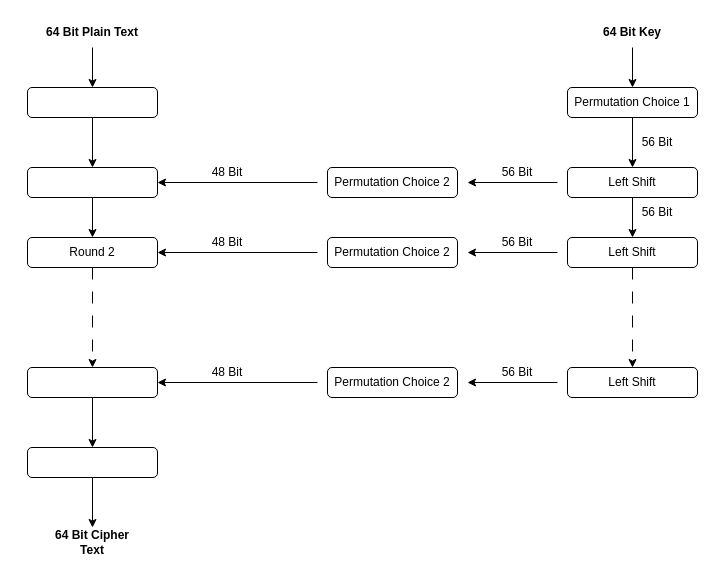
This 724x574 diagram has some shape labels left out. The centre of each missing label's shape, as x and y in pixels:
"Initial Permutation (IP)" belongs at [92,102].
"Inverse IP" belongs at [92,462].
"Round 1" belongs at [92,182].
"Round 16" belongs at [92,382].
